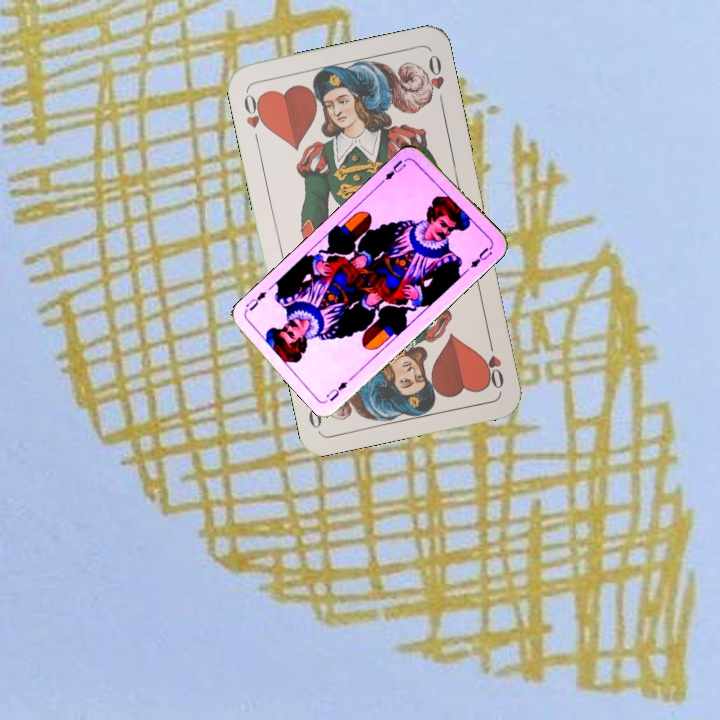EU: (381, 156, 409, 183), (322, 377, 350, 404)
HO: (239, 88, 270, 147), (480, 334, 507, 392)
